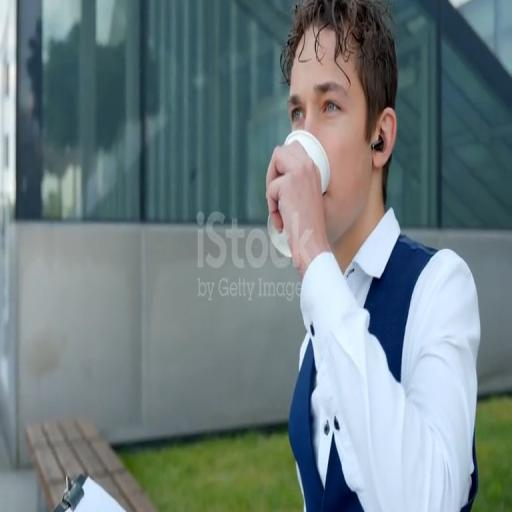earphone: (370, 125, 389, 159)
